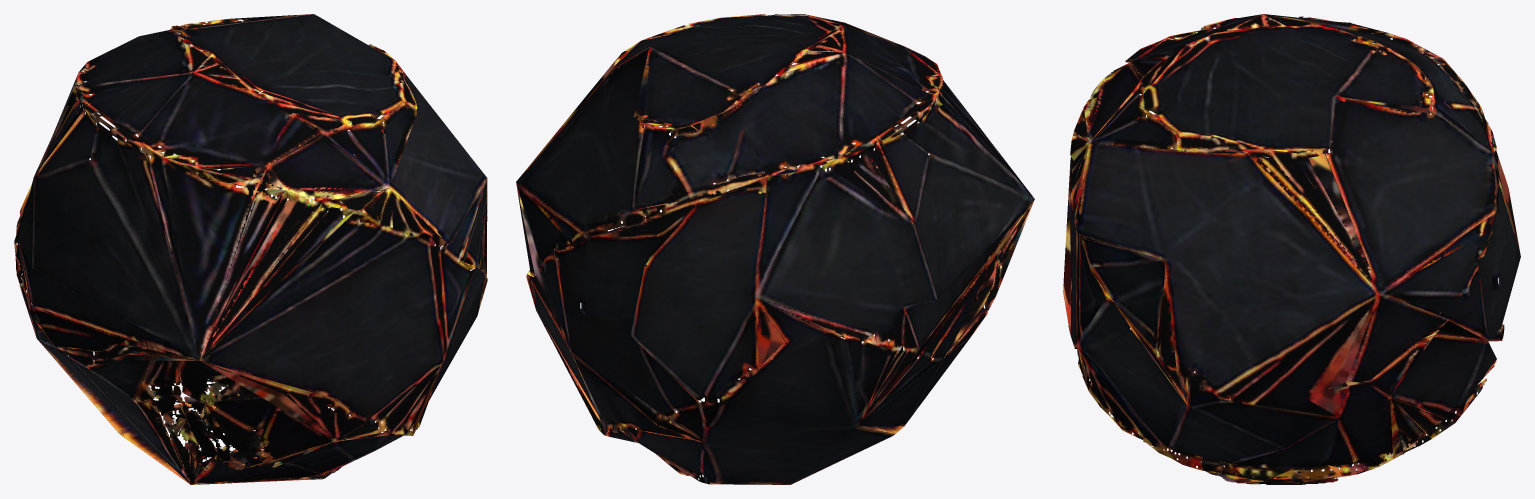
File: SmokeBomb.glb
3 views of the same model, side by side, from view 1: azimuth 30°, elevation 25°; view 2: azimuth 150°, elevation 25°; view 3: azimuth 270°, elevation 25° (orthographic).
Parts seen in each view (by area): view 1: temp_mesh.ply; view 2: temp_mesh.ply; view 3: temp_mesh.ply.
Boxes of the visible parts, left/top/right/bottom form: temp_mesh.ply: left=14, top=14, right=487, bottom=484; temp_mesh.ply: left=516, top=14, right=1034, bottom=484; temp_mesh.ply: left=1063, top=14, right=1520, bottom=484.
Bounding box in the file's own units: 0.0983 × 0.0981 × 0.1.
Materials: 1 (1 with a texture image).
